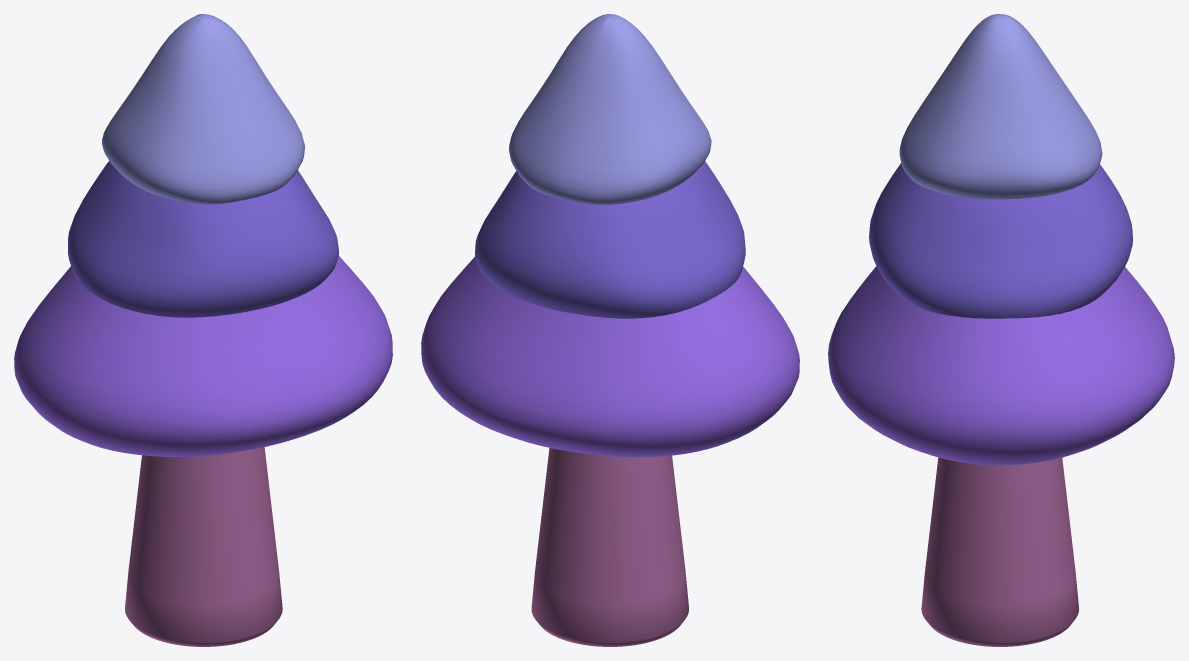
3 renders of one model, left to right at view 1: azimuth 30°, elevation 25°; view 2: azimuth 150°, elevation 25°; view 3: azimuth 270°, elevation 25°, orthographic.
Visible parts, largest first — view 1: Sphere.002, Cylinder.001; view 2: Sphere.002, Cylinder.001; view 3: Sphere.002, Cylinder.001.
Part boxes in pixels (box(x1,y1,x2,y2)): Sphere.002: box(14, 14, 392, 456); Cylinder.001: box(125, 447, 282, 646); Sphere.002: box(421, 14, 799, 457); Cylinder.001: box(531, 447, 688, 646); Sphere.002: box(828, 14, 1174, 465); Cylinder.001: box(921, 457, 1078, 646).
Size of the model in its own units: 147 by 252 by 132.
